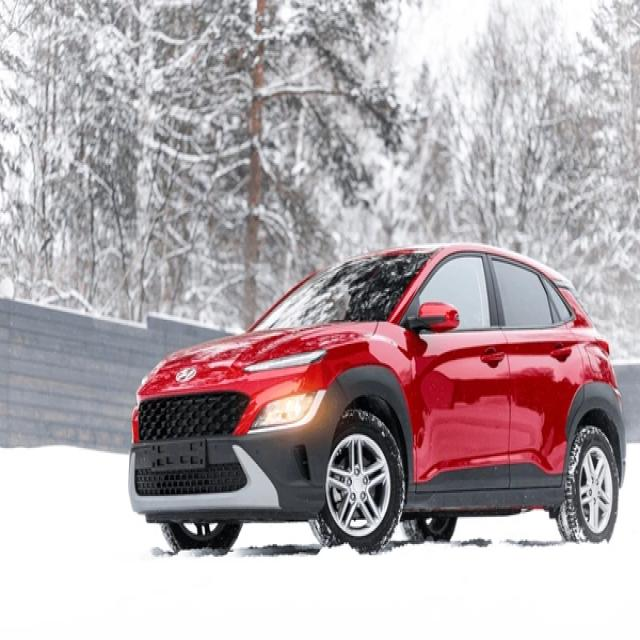hyundai: (172, 361, 200, 387)
